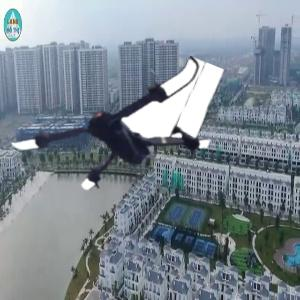drone: (17, 33, 211, 227)
